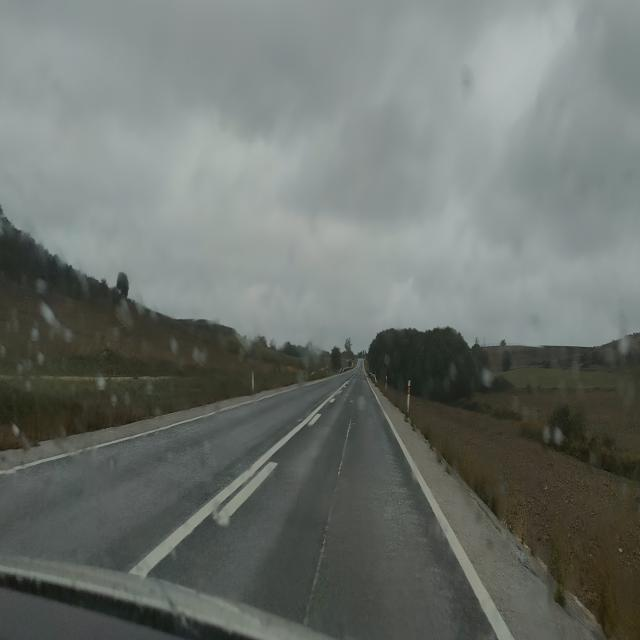Poth-hole: (302, 513, 336, 627), (337, 407, 355, 483)
